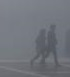person: (45, 23, 62, 67), (30, 26, 48, 67)
